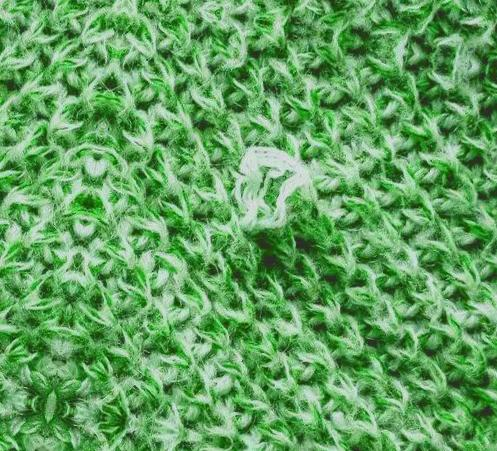snag: (230, 140, 319, 253)
